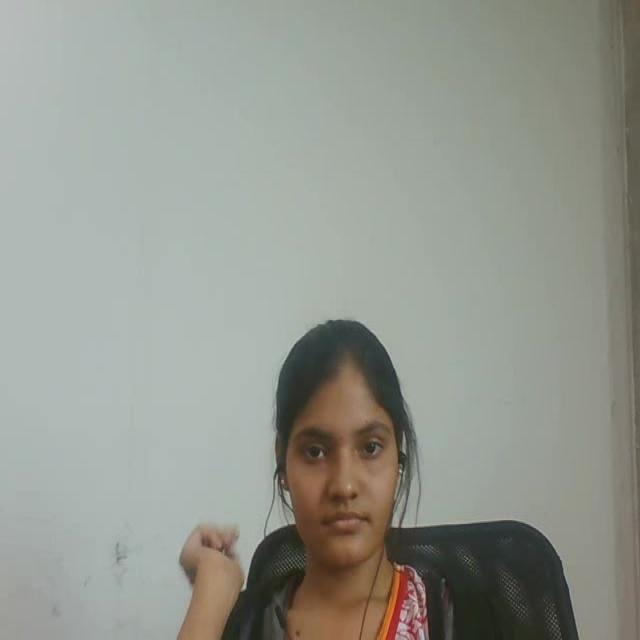Engaged: (261, 299, 433, 584)
